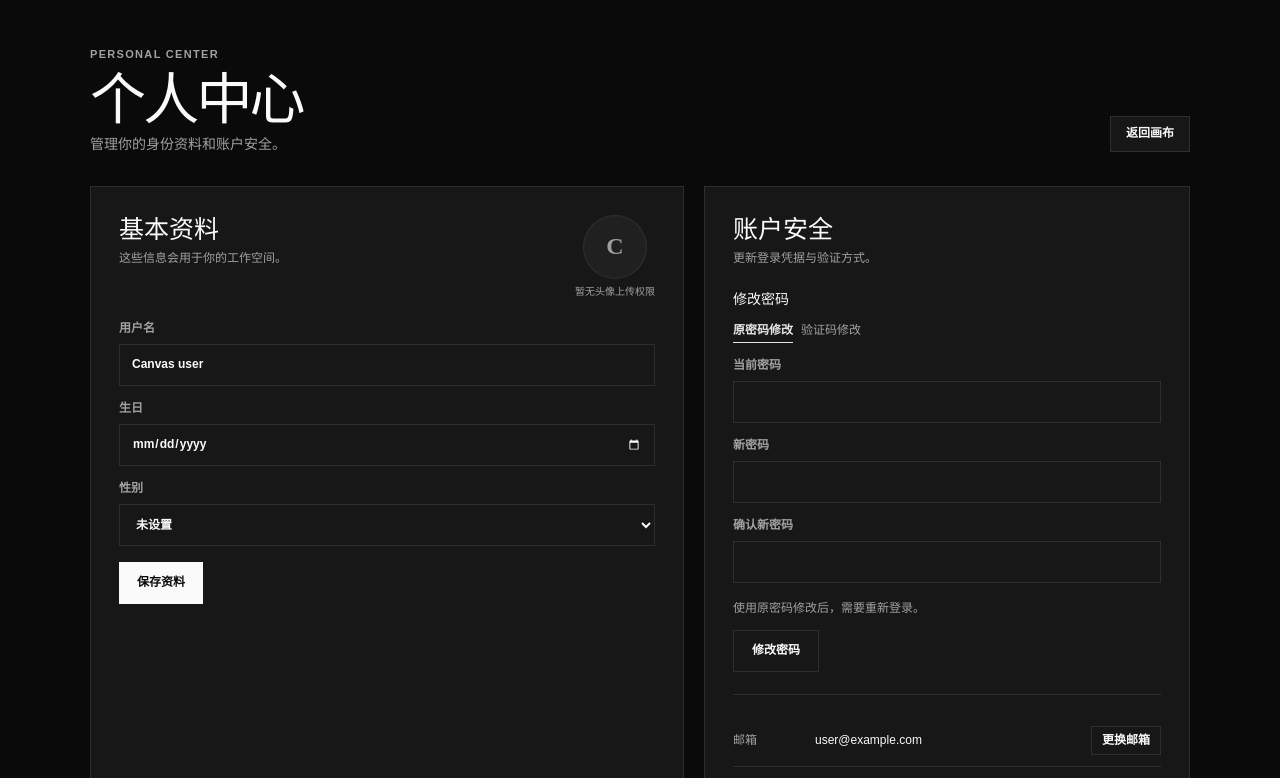
Scenario: Canvas personal center › keeps edits on save failure and does not show success
Replace the text in the field labelled "用户名" with "Existing" at (387, 365), box [119,344,655,386]
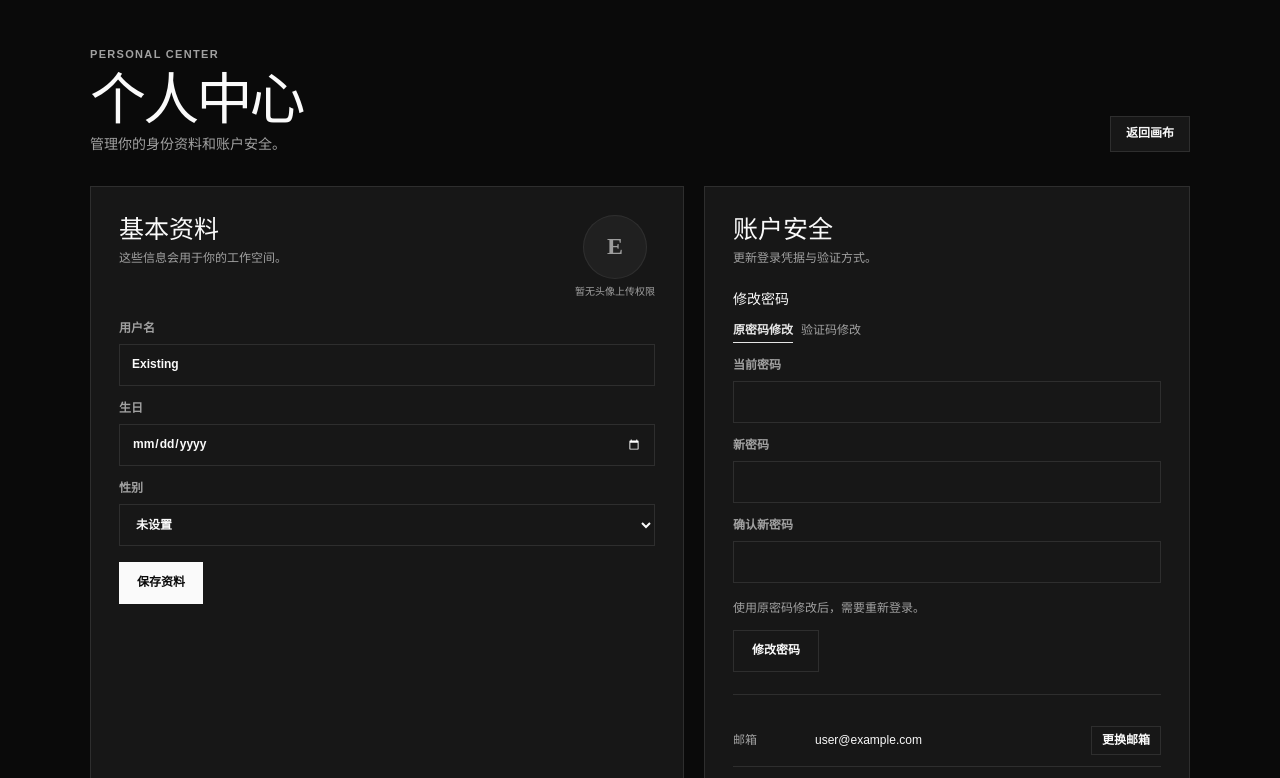
Click the button "保存资料" at (161, 583), box [119,562,203,604]
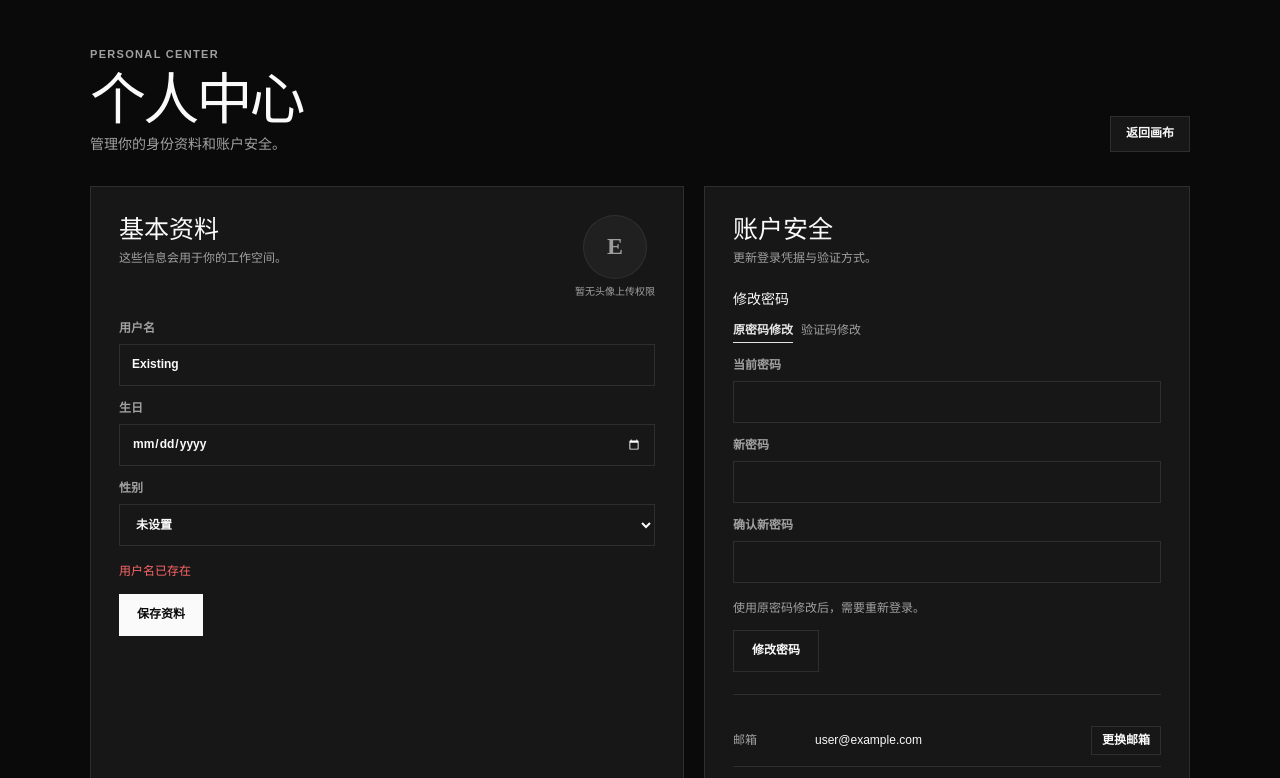
Check: the message reads "用户名已存在", box [119,564,191,578]
